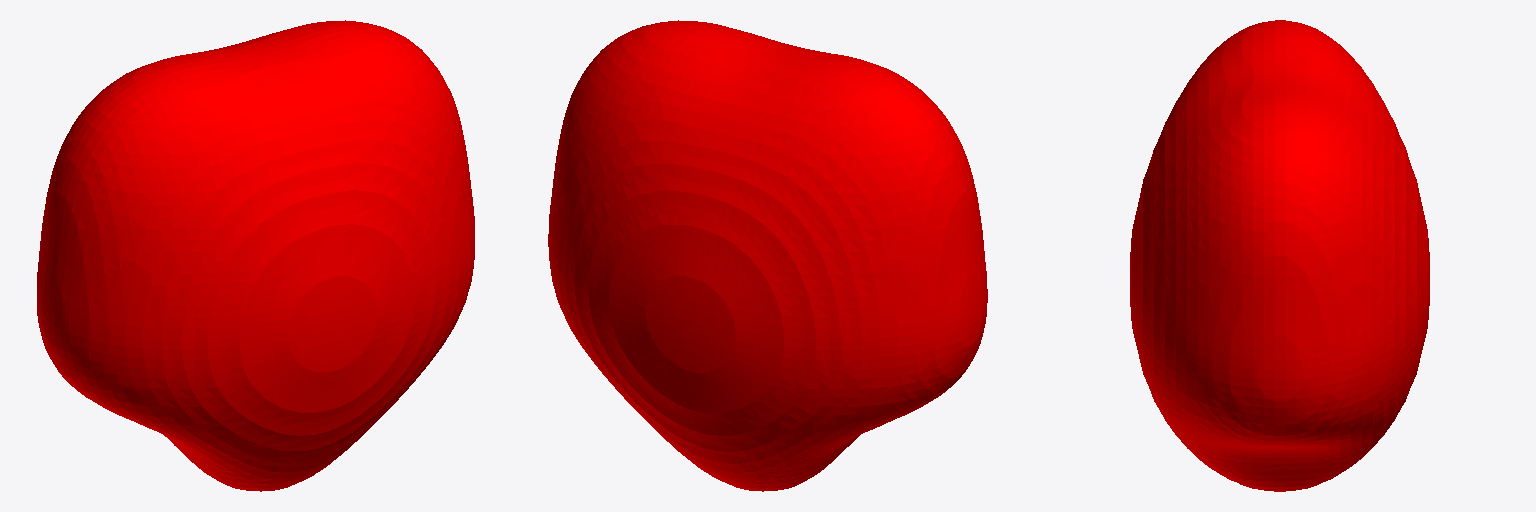
The robot description file, URDF, robot "heart":
<?xml version="1.0"?>
<robot name="heart">
  <link name="base_link">
    <inertial>
      <mass value="5.0"/>
      <origin xyz="0 0 0" rpy="0 0 0"/>
      <inertia ixx="0.1" ixy="0" ixz="0" iyy="0.1" iyz="0" izz="0.1"/>
    </inertial>
    <visual>
      <origin xyz="0 0 0" rpy="1.57 0 0"/>
      <geometry>
        <mesh filename="heart2_1.stl" scale="1 1 1"/>
      </geometry>
      <material name="red">
        <color rgba="1 0 0 1"/>
      </material>
    </visual>
    <collision>
      <origin xyz="0 0 0" rpy="1.57 0 0"/>
      <geometry>
        <mesh filename="heart2_1.stl" scale="1 1 1"/>
      </geometry>
    </collision>
  </link>
</robot>

--- What the picture shows (computed from the rendered views, not written in the file) ---
Views: 3 orthographic renders of the robot side by side, from view 1: azimuth 30°, elevation 25°; view 2: azimuth 150°, elevation 25°; view 3: azimuth 270°, elevation 25°.
Model heart with 1 links and 0 joints (none), rooted at base_link, posed all joints at 0.
Links seen in each view (by area): view 1: base_link; view 2: base_link; view 3: base_link.
Boxes of the visible links, x1,y1,x2,y2 form: base_link: (37, 20, 474, 491); base_link: (548, 20, 987, 491); base_link: (1130, 20, 1429, 491).
Bounding box of the posed robot: 0.4986 × 0.3312 × 0.5048 m (x, y, z).
Meshes: 1 distinct files referenced, 1 mesh visuals loaded (1 binary STL).